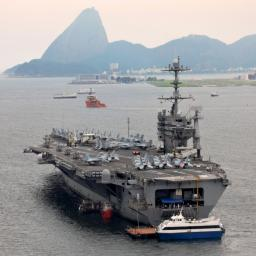Portanaves: (23, 56, 234, 231)
